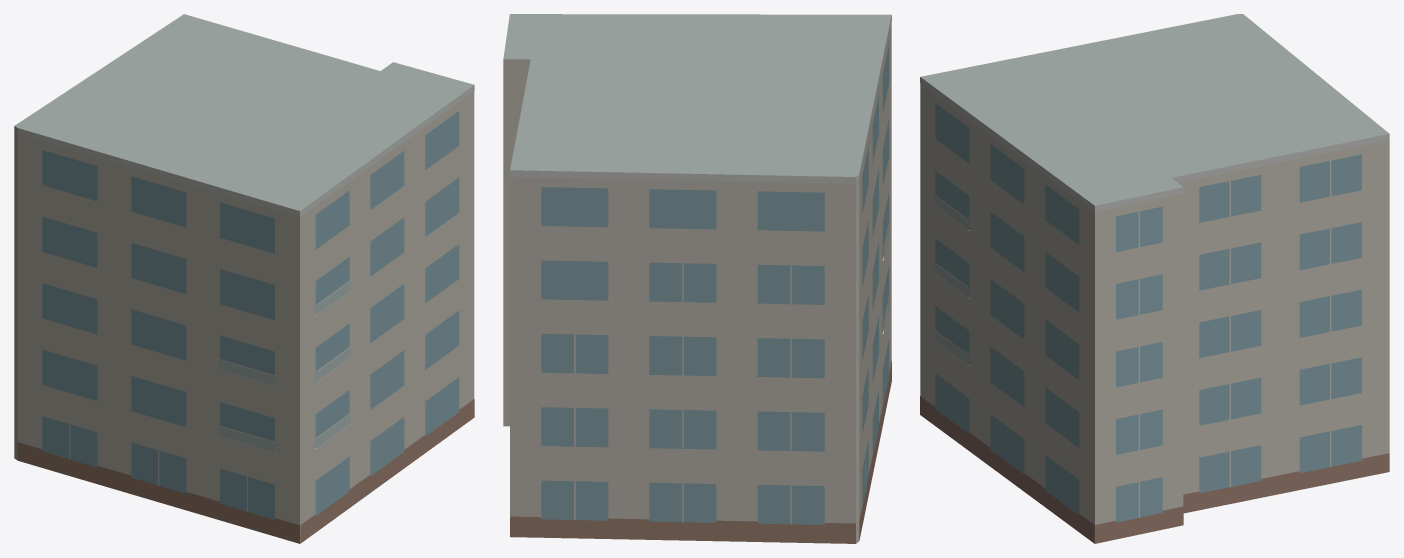
Rendered from survey-upis-32975854.glb.
The picture shows the model from 3 angles, left to right: view 1: azimuth 30°, elevation 25°; view 2: azimuth 150°, elevation 25°; view 3: azimuth 270°, elevation 25°; orthographic projection. The views are drawn at different scales.
Parts seen in each view (by area): view 1: survey-upis-32975854.tmp; view 2: survey-upis-32975854.tmp; view 3: survey-upis-32975854.tmp.
Part boxes in pixels (left/top/right/bottom): survey-upis-32975854.tmp: left=14, top=14, right=474, bottom=543; survey-upis-32975854.tmp: left=503, top=14, right=891, bottom=543; survey-upis-32975854.tmp: left=920, top=14, right=1389, bottom=543.
Bounding box in the file's own units: 16.08 × 13.2 × 16.63.
